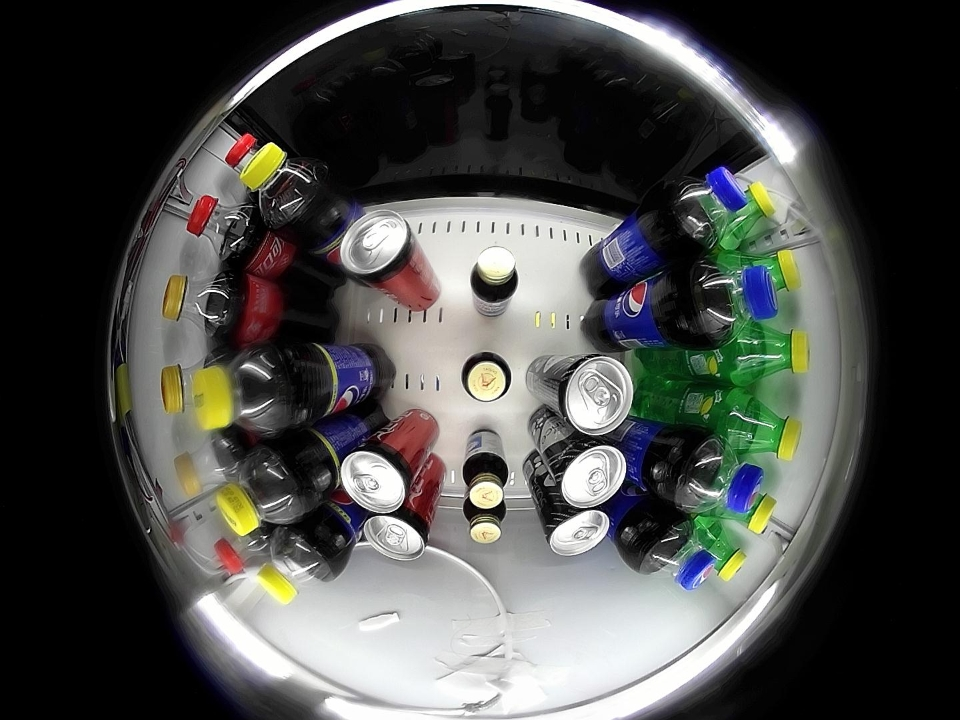baishikele: (191, 345, 289, 435), (216, 447, 304, 535), (238, 142, 325, 227), (257, 527, 335, 604)
baishikele-2: (690, 258, 782, 343), (680, 439, 767, 518), (670, 166, 752, 248), (638, 518, 718, 592)
kele-b: (185, 195, 257, 263), (214, 527, 269, 575), (224, 133, 266, 175)
kele-b-2: (163, 272, 231, 338), (174, 434, 242, 498), (161, 351, 215, 415)
libaojian: (470, 247, 520, 313), (461, 350, 513, 403), (463, 454, 508, 510), (464, 499, 507, 544)
lingdukele: (338, 208, 418, 286), (339, 440, 418, 513), (361, 506, 433, 561)
qingdaowangzi-1: (553, 355, 635, 436), (547, 438, 628, 509), (542, 502, 611, 556)
xuebi-b: (729, 392, 803, 461), (735, 323, 810, 382), (727, 180, 778, 245), (699, 521, 747, 583), (742, 249, 802, 296), (732, 488, 779, 536)
